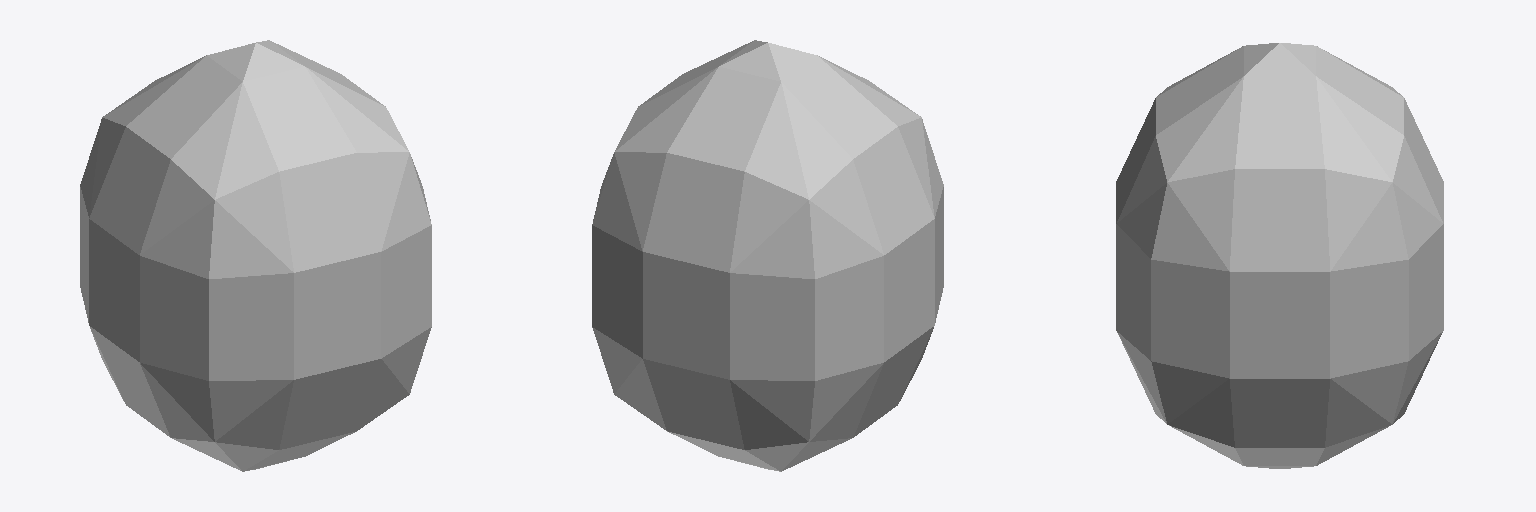
Rendered from teeth_smoothed_30.obj.
The picture shows the model from 3 angles: view 1: azimuth 30°, elevation 25°; view 2: azimuth 150°, elevation 25°; view 3: azimuth 270°, elevation 25°; orthographic projection.
Size of the model in its own units: 0.9933 by 1.43 by 0.9933.